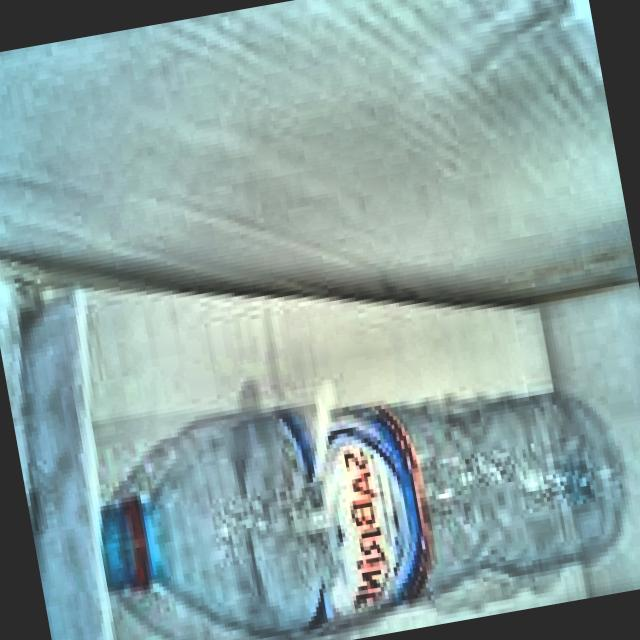plastic bottle: (98, 396, 619, 636)
